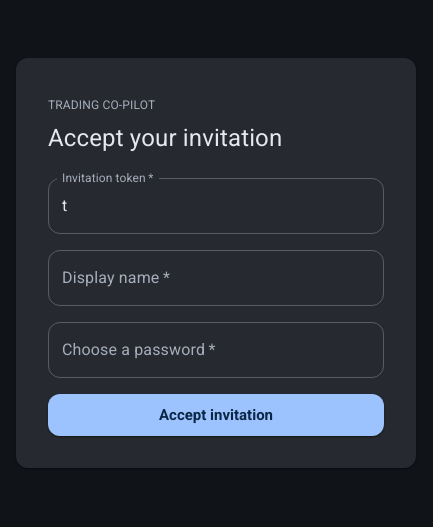
Test: AcceptInvitePage › shows a retry message when the request could not be sent
The width and height of the screenshot is (433, 527).
In the field labelled "Display name": [216, 278] box x1=48 y1=250 x2=384 y2=306, type "New Operator"
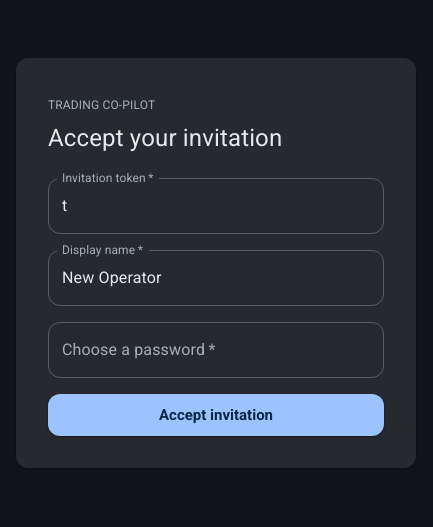
In the password field labelled "Choose a password": [216, 350] box x1=48 y1=322 x2=384 y2=378, type "pw"
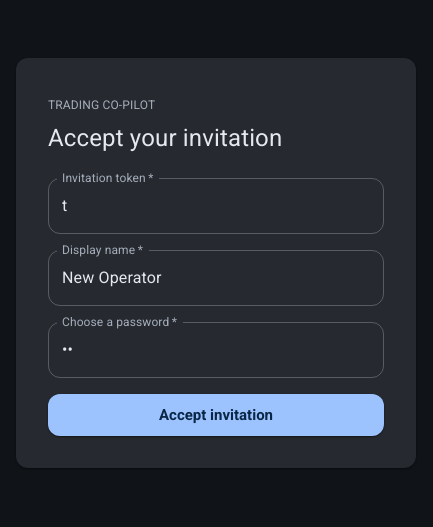
Click the button "Accept invitation": [216, 415] box x1=48 y1=394 x2=384 y2=436
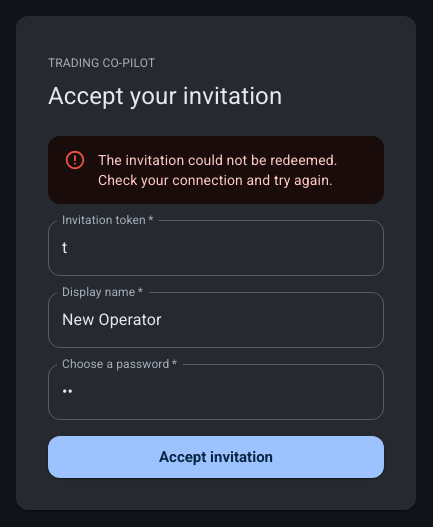
Expected: the message shows "Check your connection", x1=98 y1=152 x2=338 y2=188
